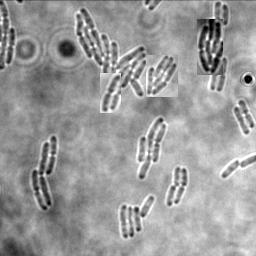Dividing: (100, 73, 121, 113), (175, 167, 189, 204), (238, 99, 255, 128), (217, 56, 228, 92), (7, 27, 17, 64)
Microcolony: (76, 7, 147, 98), (137, 117, 168, 180), (32, 135, 57, 211), (120, 195, 155, 238), (197, 19, 223, 75), (146, 55, 178, 97), (208, 1, 229, 42)
Rod: (233, 106, 251, 135), (222, 157, 240, 178), (167, 184, 177, 206), (174, 166, 183, 187)
